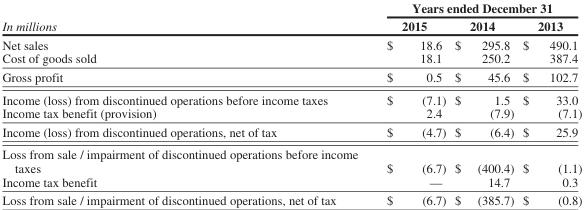table: (1, 0, 581, 207)
table column: (1, 0, 371, 207), (371, 0, 449, 207), (449, 0, 517, 207), (517, 0, 581, 207)
table column header: (1, 0, 581, 35)
table row: (1, 142, 581, 174), (1, 67, 581, 87), (1, 122, 581, 142), (1, 16, 581, 35), (1, 87, 581, 106), (1, 190, 581, 207), (1, 0, 581, 16), (1, 35, 581, 51), (1, 51, 581, 67), (1, 106, 581, 122), (1, 174, 581, 190)
table spanning cell: (1, 0, 371, 35), (371, 0, 581, 16)
